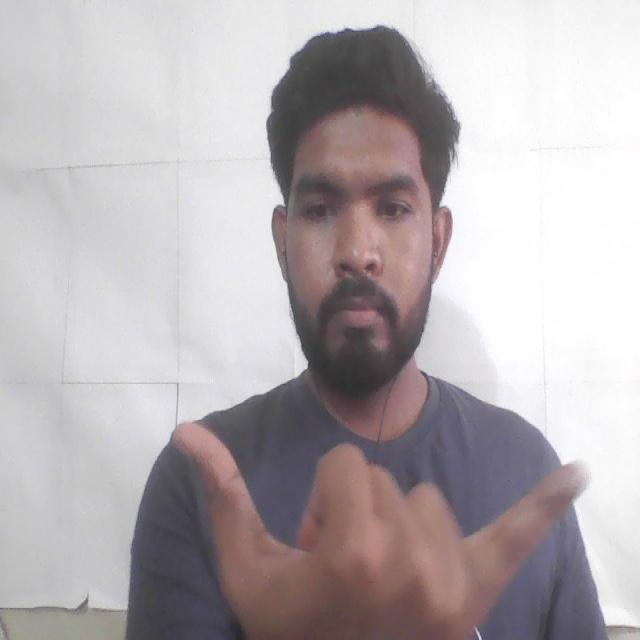Thanks: (145, 400, 610, 640)
